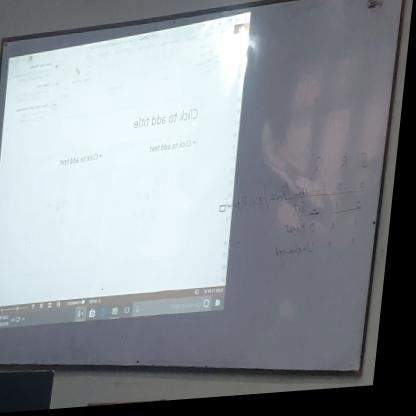Handwritten text: (316, 153, 374, 185), (277, 244, 323, 268), (226, 195, 268, 219), (298, 183, 333, 205), (288, 224, 313, 244), (274, 188, 292, 211), (295, 205, 312, 221)
Whiteboard: (0, 0, 405, 380)
